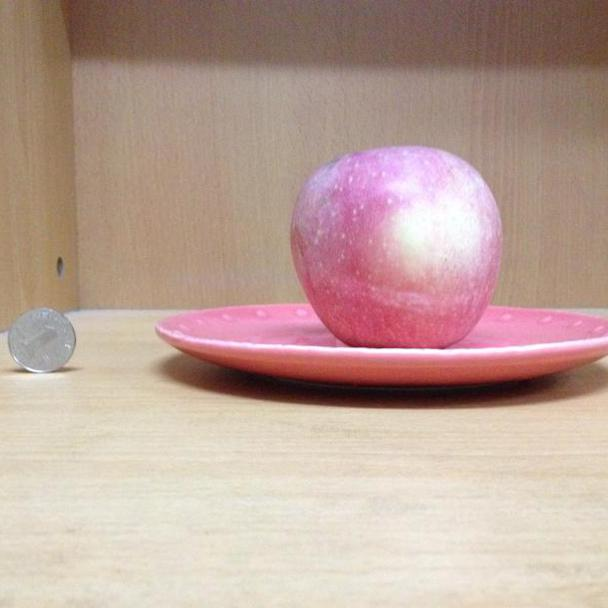apple: (289, 145, 503, 348)
